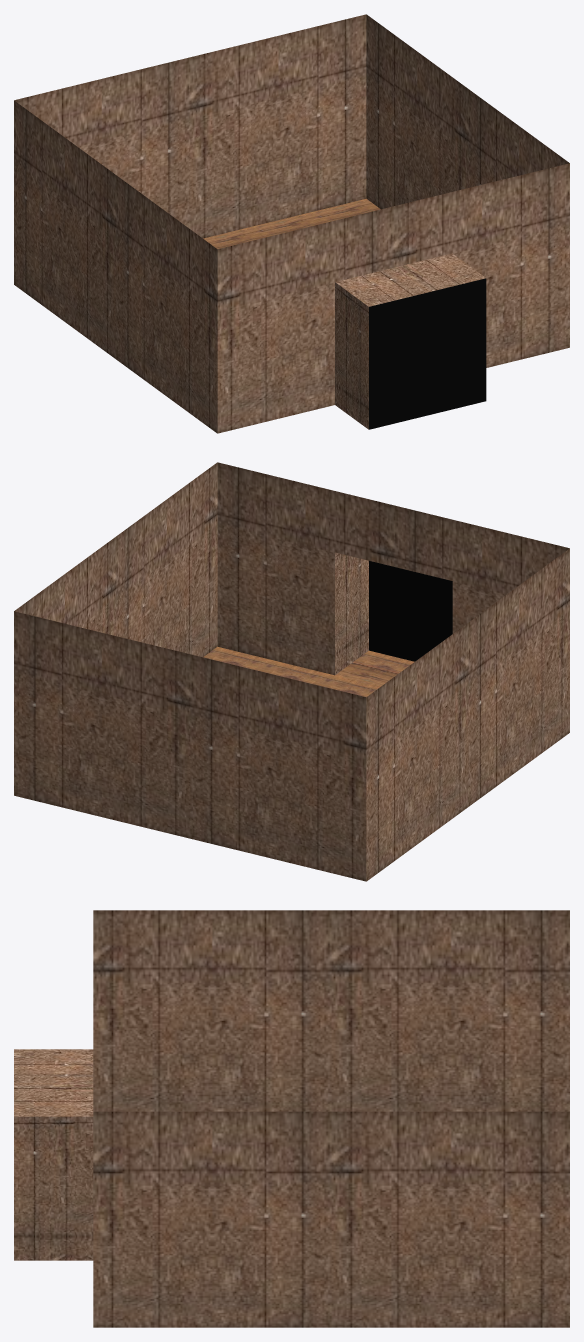
File: shop-interior.glb
3 views of the same model, one above another, from view 1: azimuth 30°, elevation 25°; view 2: azimuth 150°, elevation 25°; view 3: azimuth 270°, elevation 25° (orthographic). The views are drawn at different scales.
Parts seen in each view (by area): view 1: shop-col; view 2: shop-col; view 3: shop-col.
Boxes of the visible parts, x1,y1,x2,y2 form: shop-col: (14, 14, 569, 433); shop-col: (14, 462, 569, 881); shop-col: (14, 910, 569, 1327).
Size of the model in its own units: 6 by 3 by 7.
Materials: 3 (2 with a texture image).
